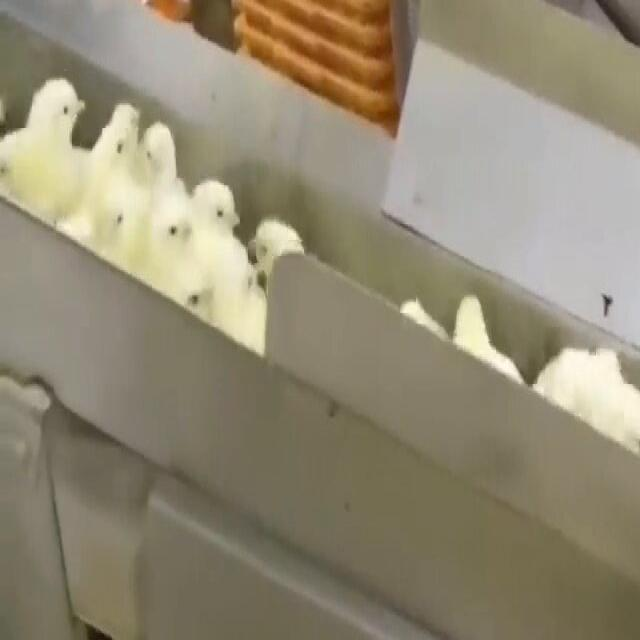chicks: (28, 71, 86, 137), (184, 280, 241, 328), (105, 200, 152, 256), (252, 218, 294, 276), (202, 184, 239, 241), (160, 202, 196, 254), (456, 294, 486, 351), (101, 116, 132, 170), (621, 381, 640, 455), (144, 122, 172, 172), (400, 292, 435, 332), (538, 362, 569, 406), (592, 356, 617, 404), (116, 98, 140, 136)
